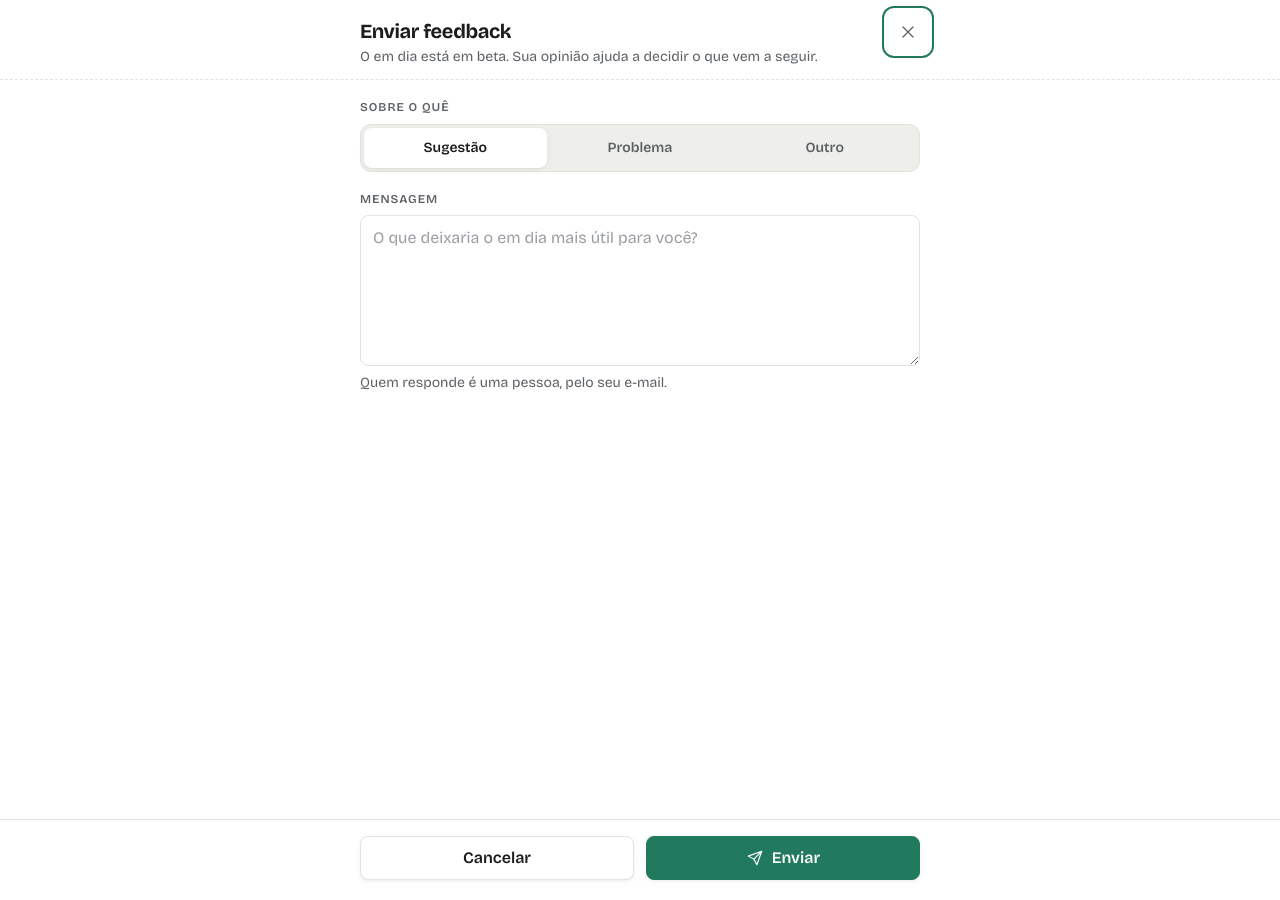
FeedbackSheet › asks for more before sending a too short message
The image size is (1280, 900).
Type "oi" into the text box labelled "Mensagem".
click(640, 291); type("oi")  # box [360,215,920,366]
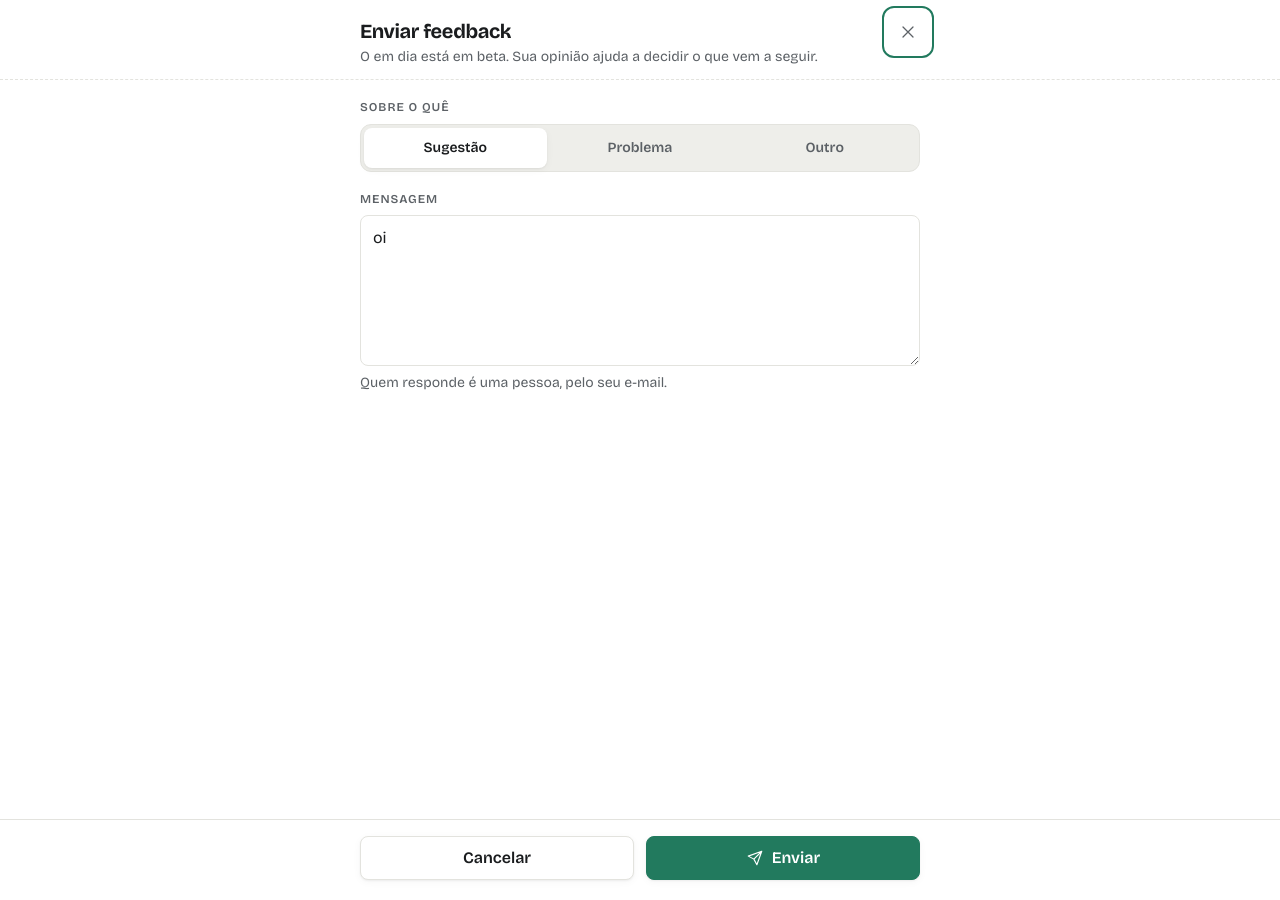
Submit the form with id "feedback-form", box [360,100,920,392]
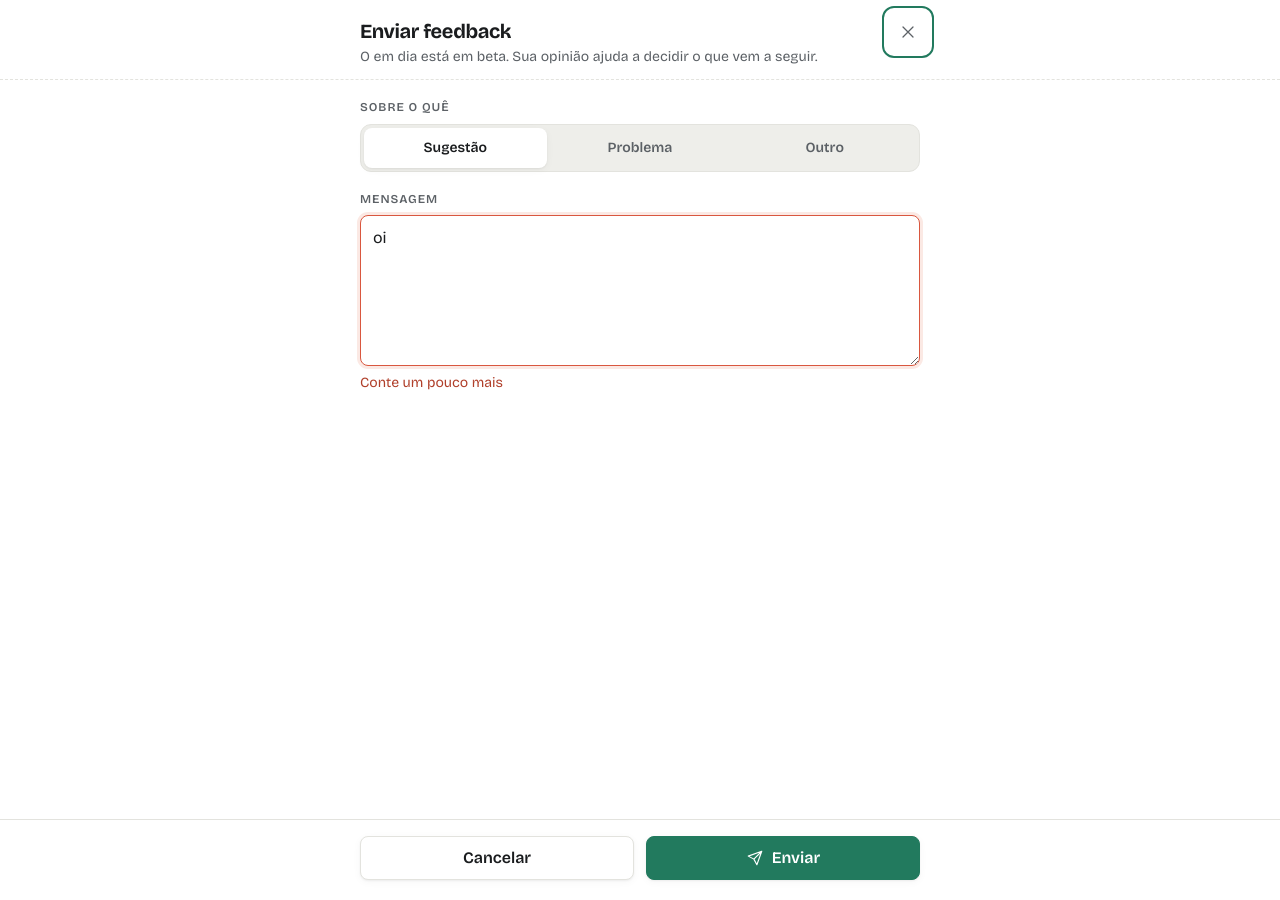
Expected: the text "Conte um pouco mais" is shown, [360,374,503,391]
